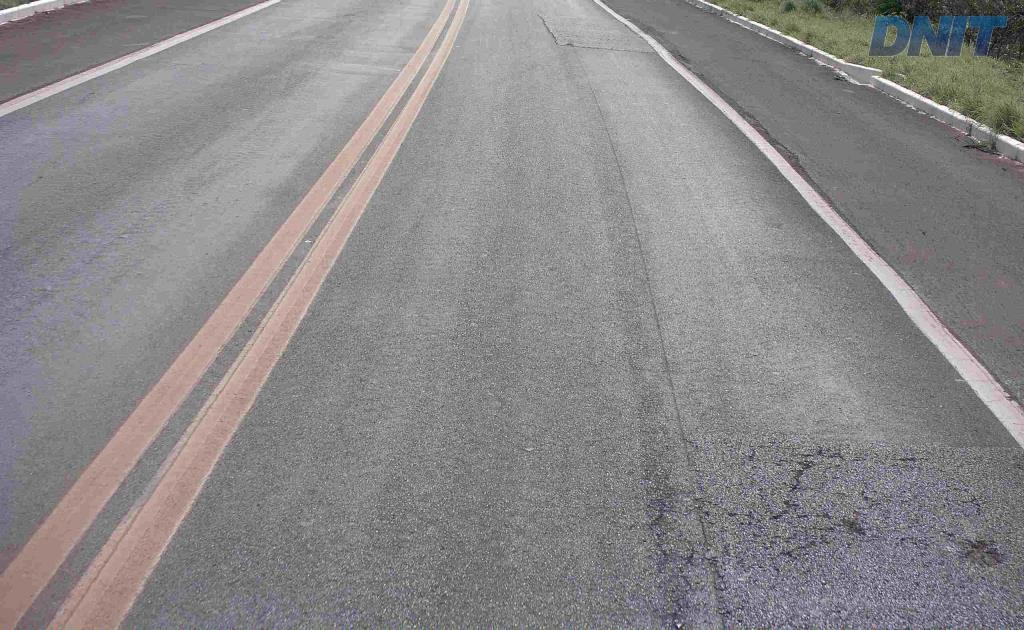crack: (958, 537, 1007, 568)
pothole: (949, 533, 1010, 577), (832, 508, 882, 547)
